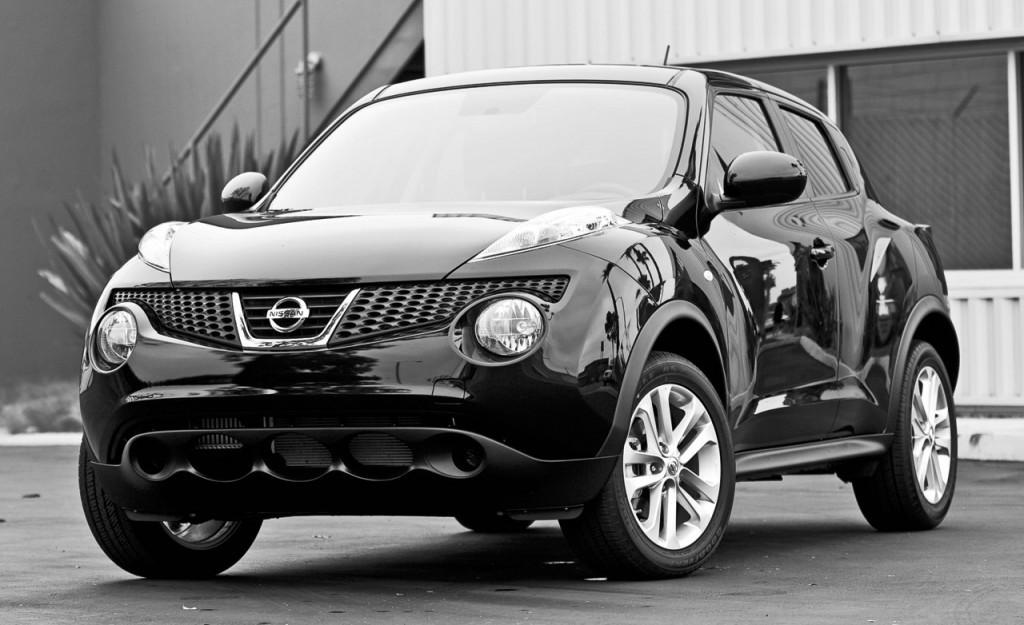car: (78, 46, 964, 581)
